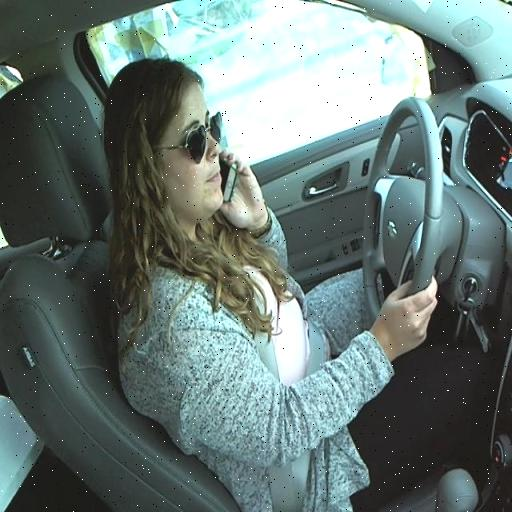talking_phone: (93, 124, 446, 426)
